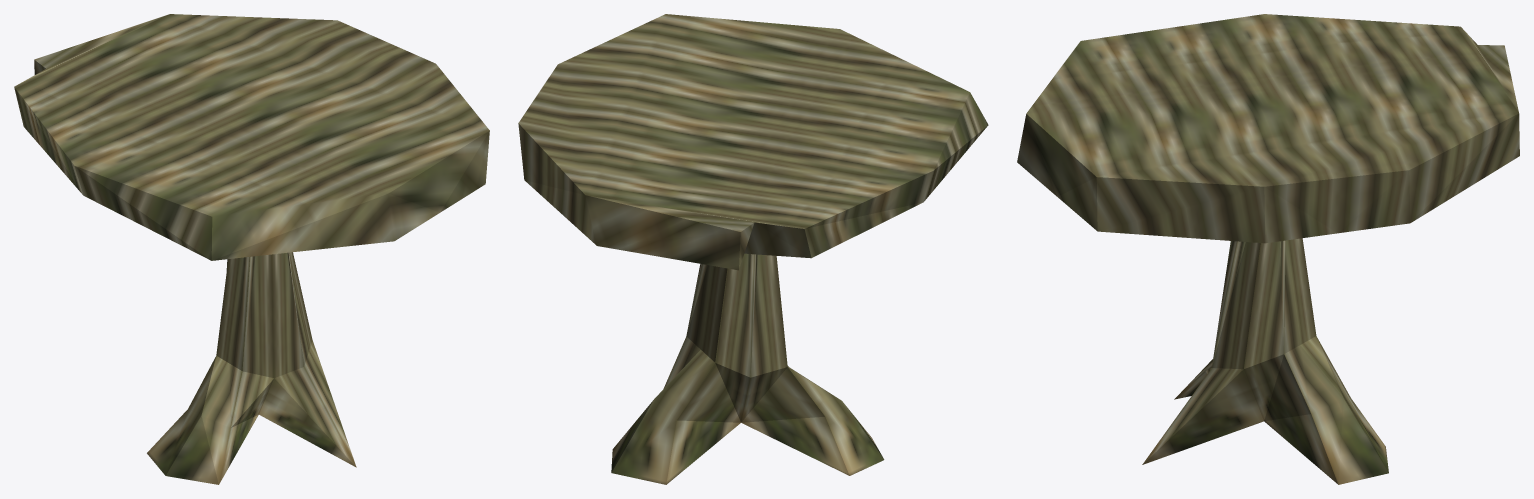
The model's file is table.obj.
The picture shows the model from 3 angles, left to right: view 1: azimuth 30°, elevation 25°; view 2: azimuth 150°, elevation 25°; view 3: azimuth 270°, elevation 25°; orthographic projection. The views are drawn at different scales.
Parts seen in each view (by area): view 1: Plane.001, Plane; view 2: Plane.001, Plane; view 3: Plane.001, Plane.
Boxes of the visible parts, left/top/right/bottom form: Plane.001: left=14, top=14, right=489, bottom=260; Plane: left=147, top=252, right=356, bottom=484; Plane.001: left=518, top=14, right=988, bottom=270; Plane: left=611, top=253, right=884, bottom=484; Plane.001: left=1017, top=14, right=1519, bottom=243; Plane: left=1142, top=238, right=1388, bottom=484.
Bounding box in the file's own units: 1.21 × 1.05 × 1.37.
